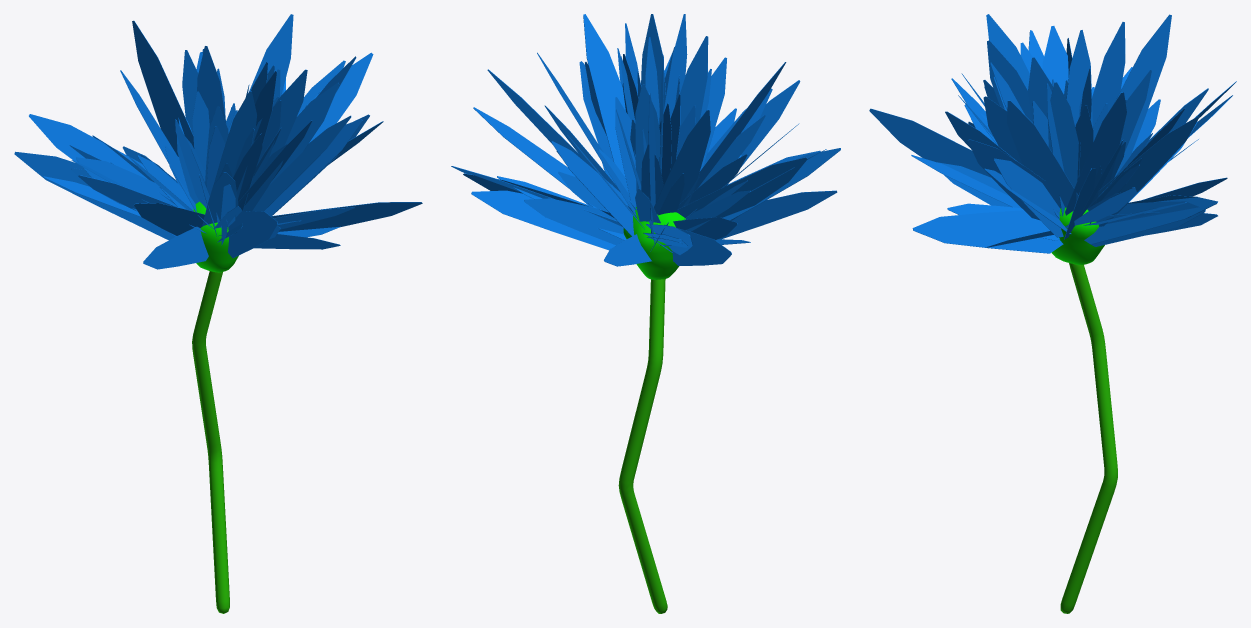
File: BlumeBlau.fbx
The picture shows the model from 3 angles, left to right: view 1: azimuth 30°, elevation 25°; view 2: azimuth 150°, elevation 25°; view 3: azimuth 270°, elevation 25°; orthographic projection. The views are drawn at different scales.
Parts seen in each view (by area): view 1: Plane.002, Plane.001|Plane|Dupli|23, Plane.001|Plane|Dupli|46, Plane.001|Plane|Dupli|82, Plane.001|Plane|Dupli|56, Plane.001|Plane|Dupli|71, Plane.001|Plane|Dupli|41, Plane.001|Plane|Dupli|58, Plane.001|Plane|Dupli|4, Plane.001|Plane|Dupli|2, Plane.001|Plane|Dupli|57, Plane.001|Plane|Dupli|83 (+22 smaller); view 2: Plane.002, Plane.001|Plane|Dupli|44, Plane.001|Plane|Dupli|57, Plane.001|Plane|Dupli|22, Plane.001|Plane|Dupli|75, Plane.001|Plane|Dupli|35, Plane.001|Plane|Dupli|13, Plane.001|Plane|Dupli|41, Sphere, Plane.001|Plane|Dupli|4, Plane.001|Plane|Dupli|70, Plane.001|Plane|Dupli|82 (+25 smaller); view 3: Plane.002, Plane.001|Plane|Dupli|71, Plane.001|Plane|Dupli|44, Plane.001|Plane|Dupli|58, Plane.001|Plane|Dupli|23, Plane.001|Plane|Dupli|74, Plane.001|Plane|Dupli|13, Plane.001|Plane|Dupli|35, Plane.001|Plane|Dupli|40, Plane.001|Plane|Dupli|64, Plane.001|Plane|Dupli|63, Sphere (+22 smaller).
Boxes of the visible parts, <box> form: Plane.002: <box>192,271,229,613</box>; Plane.001|Plane|Dupli|23: <box>132,20,194,156</box>; Plane.001|Plane|Dupli|46: <box>29,114,148,179</box>; Plane.001|Plane|Dupli|82: <box>14,151,175,240</box>; Plane.001|Plane|Dupli|56: <box>252,115,351,211</box>; Plane.001|Plane|Dupli|71: <box>271,202,422,231</box>; Plane.001|Plane|Dupli|41: <box>143,226,208,269</box>; Plane.001|Plane|Dupli|58: <box>228,211,277,258</box>; Plane.001|Plane|Dupli|4: <box>213,91,256,184</box>; Plane.001|Plane|Dupli|2: <box>269,82,339,185</box>; Plane.001|Plane|Dupli|57: <box>76,157,176,236</box>; Plane.001|Plane|Dupli|83: <box>263,119,362,215</box>; Plane.002: <box>618,279,667,613</box>; Plane.001|Plane|Dupli|44: <box>583,14,625,177</box>; Plane.001|Plane|Dupli|57: <box>676,157,807,220</box>; Plane.001|Plane|Dupli|22: <box>524,198,623,245</box>; Plane.001|Plane|Dupli|75: <box>471,190,615,250</box>; Plane.001|Plane|Dupli|35: <box>654,110,710,214</box>; Plane.001|Plane|Dupli|13: <box>551,141,634,236</box>; Plane.001|Plane|Dupli|41: <box>718,190,837,239</box>; Sphere: <box>623,207,685,279</box>; Plane.001|Plane|Dupli|4: <box>680,36,708,127</box>; Plane.001|Plane|Dupli|70: <box>473,107,596,208</box>; Plane.001|Plane|Dupli|82: <box>664,224,731,265</box>; Plane.002: <box>1060,263,1117,613</box>; Plane.001|Plane|Dupli|71: <box>912,210,1063,253</box>; Plane.001|Plane|Dupli|44: <box>1007,100,1078,207</box>; Plane.001|Plane|Dupli|58: <box>869,108,991,177</box>; Plane.001|Plane|Dupli|23: <box>1114,14,1171,177</box>; Plane.001|Plane|Dupli|74: <box>1065,92,1126,215</box>; Plane.001|Plane|Dupli|13: <box>1097,116,1199,202</box>; Plane.001|Plane|Dupli|35: <box>1092,22,1125,127</box>; Plane.001|Plane|Dupli|40: <box>994,158,1063,237</box>; Plane.001|Plane|Dupli|64: <box>1084,197,1217,244</box>; Plane.001|Plane|Dupli|63: <box>1048,82,1078,188</box>; Sphere: <box>1051,207,1104,264</box>.
Size of the model in its own units: 1211 by 2022 by 1161.
